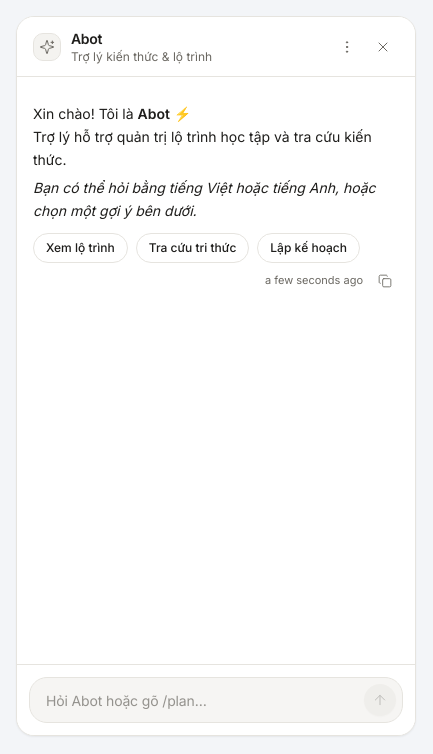
Scenario: RoadmapChatbotWidget › error reply (P0-2) › shows Thử lại on a failed reply and re-sends the question on click
Step 1. Type "hỏi thử" into the field with placeholder "Hỏi Abot hoặc gõ /plan…" → (201, 700), box [46,686,356,714]
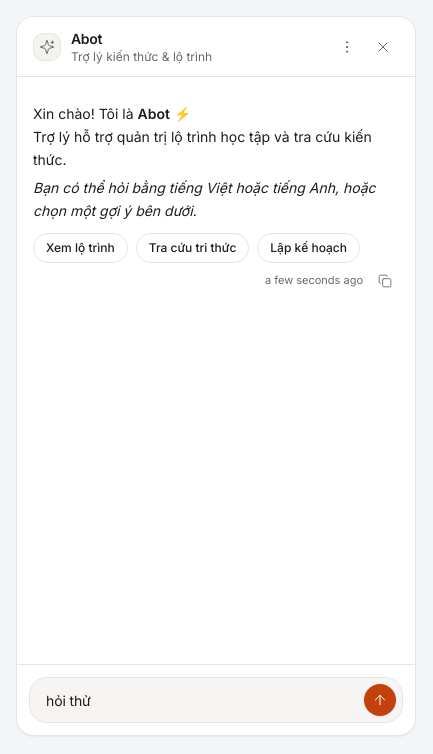
Step 2. Click the button named "Gửi tin nhắn" → (380, 700), box [364,684,396,716]
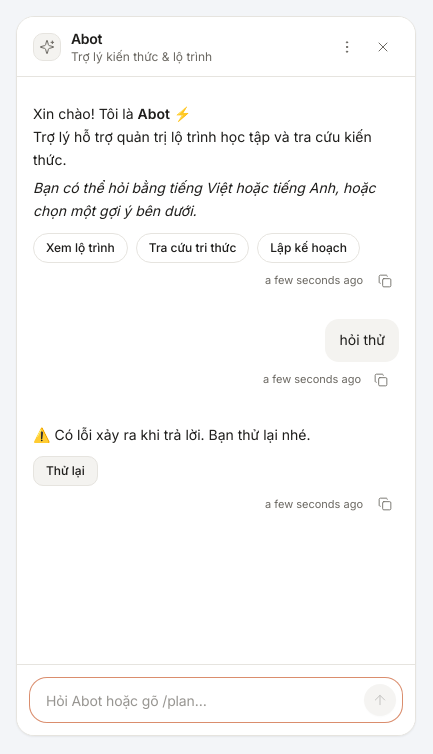
Step 3. Click the button "Thử lại" → (65, 471), box [33,456,98,486]
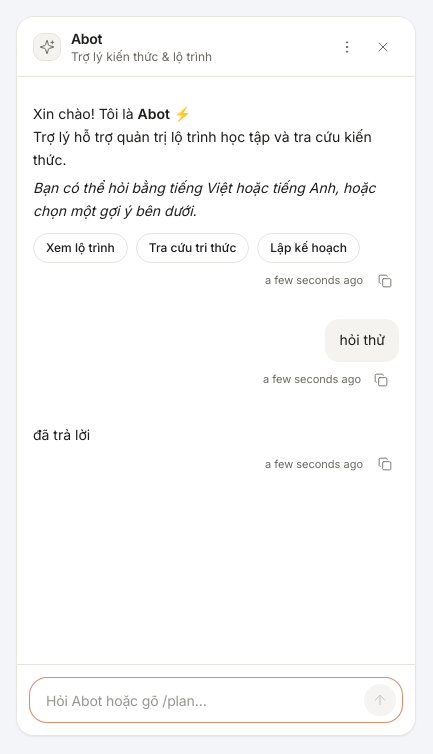
Expected: the text "hỏi thử" is shown, [326,319,399,362]
Expected: the text "đã trả lời" is shown, [33,426,90,442]
